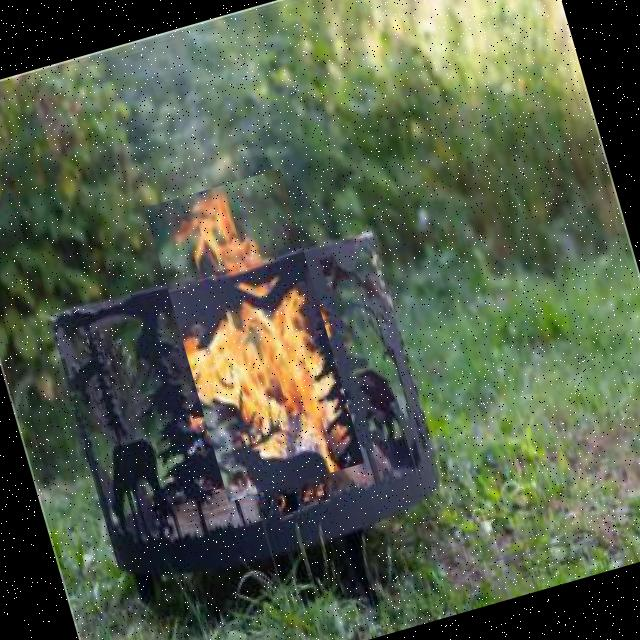fire: (144, 168, 364, 502)
